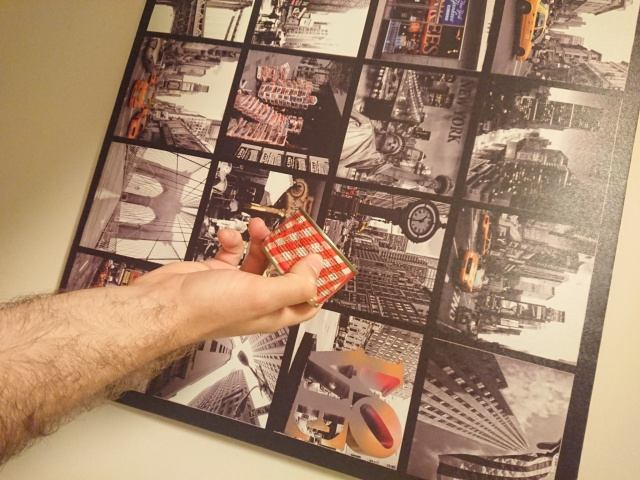Podravka Luncheon Meat 150g: (259, 204, 361, 311)
